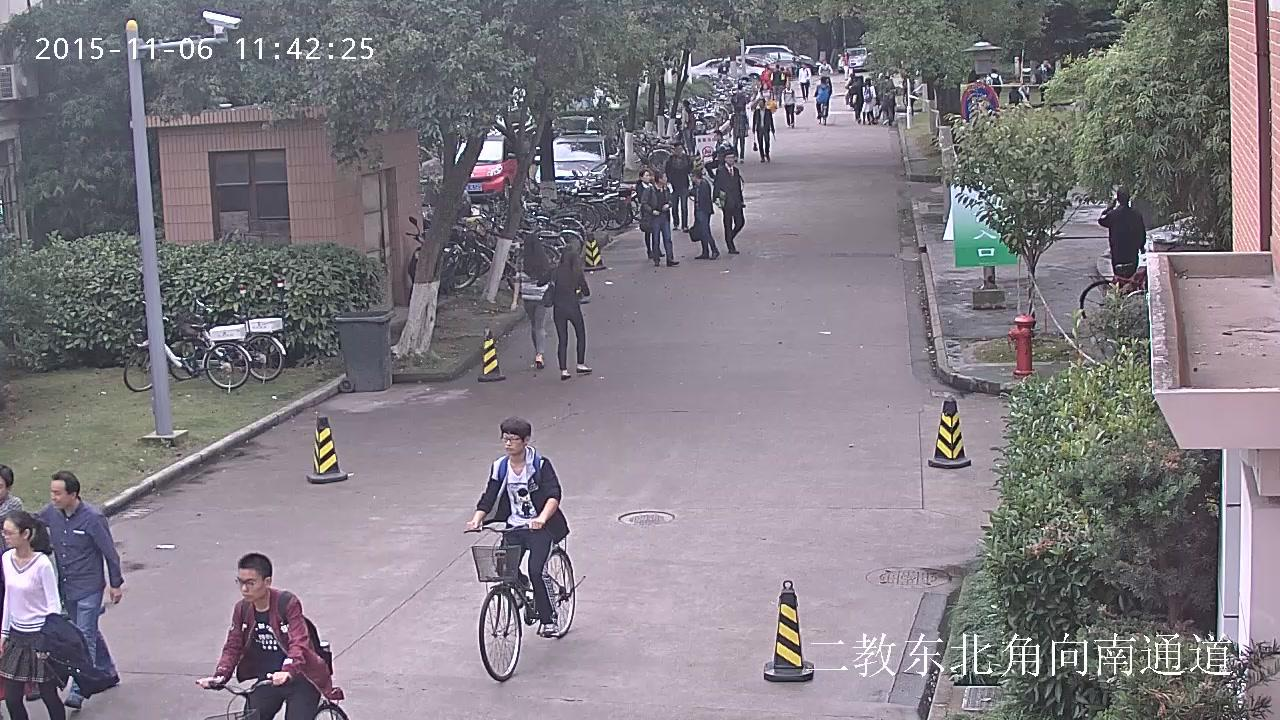face: (238, 566, 265, 601), (1, 519, 22, 547), (51, 480, 71, 508), (503, 431, 524, 453), (0, 476, 6, 497), (642, 171, 649, 182), (727, 154, 733, 164), (675, 144, 681, 154), (661, 173, 666, 183), (689, 173, 694, 181), (759, 99, 763, 107), (713, 133, 717, 139), (1044, 60, 1048, 65), (802, 64, 806, 68), (822, 60, 826, 64), (786, 83, 789, 88), (763, 83, 766, 88)
